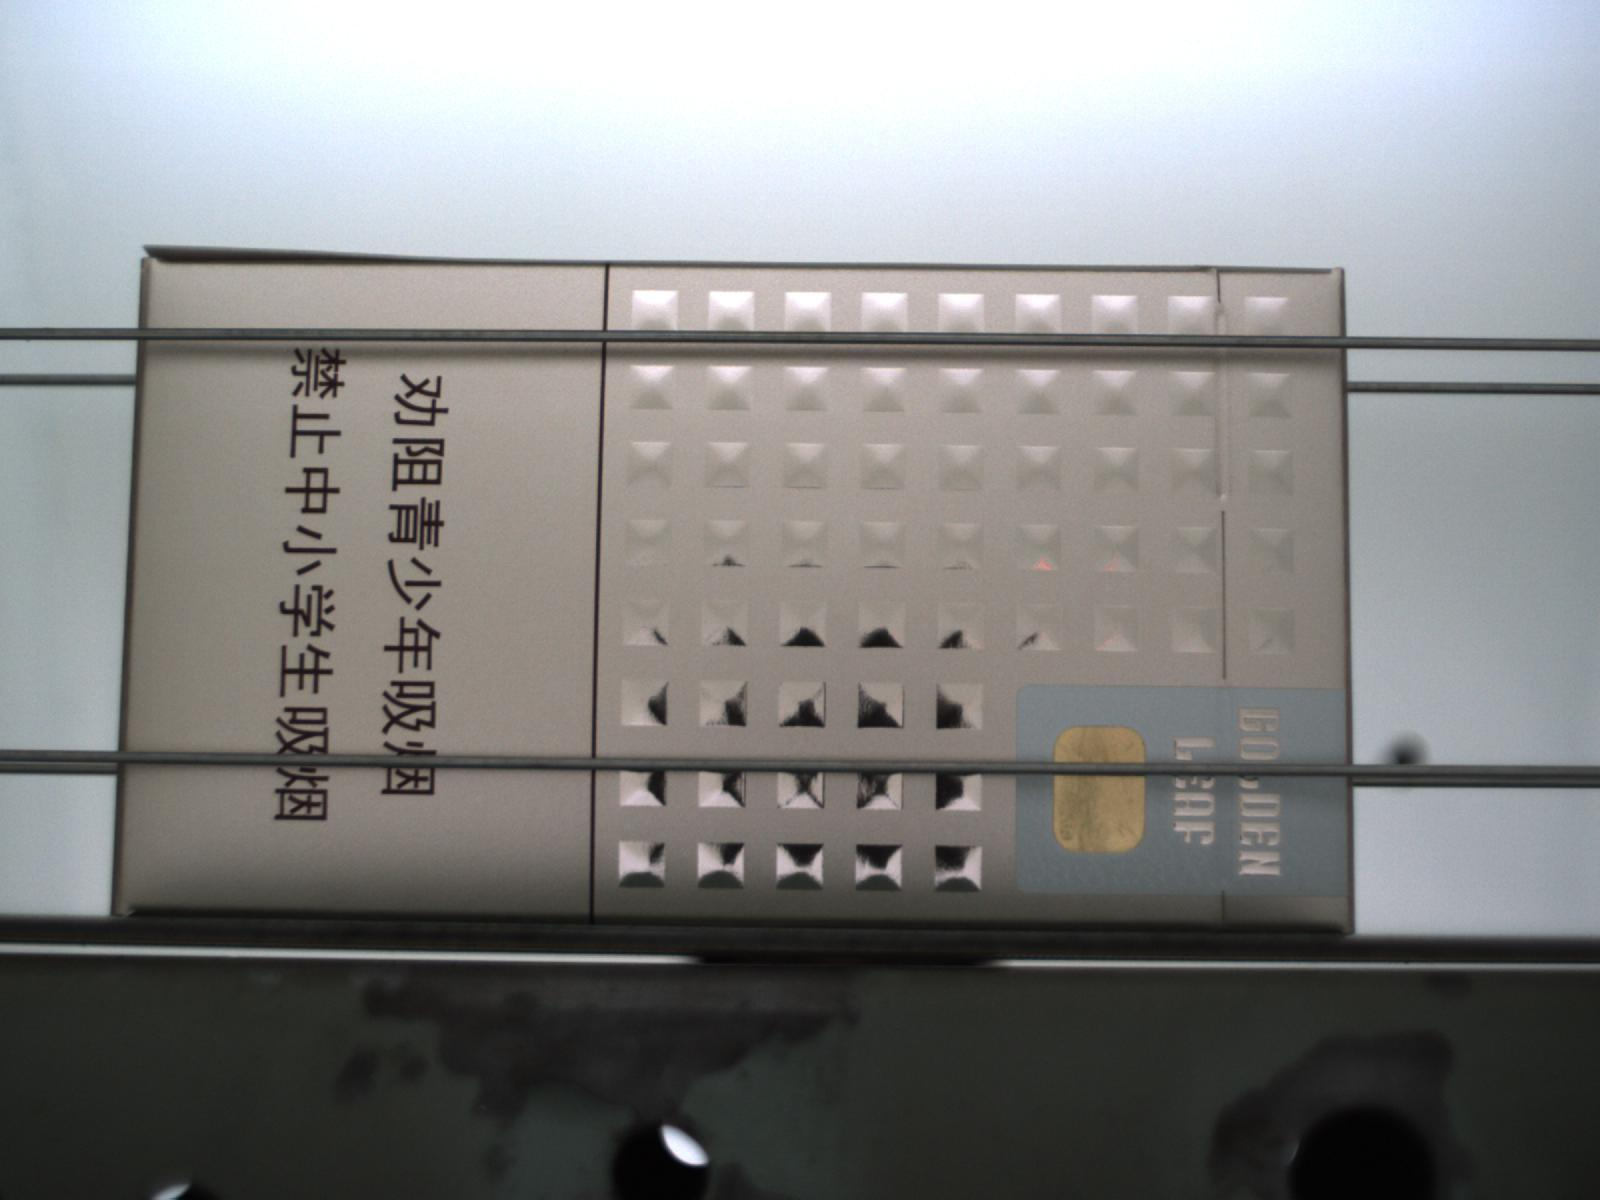outerFold_upper_01: (140, 241, 464, 268)
